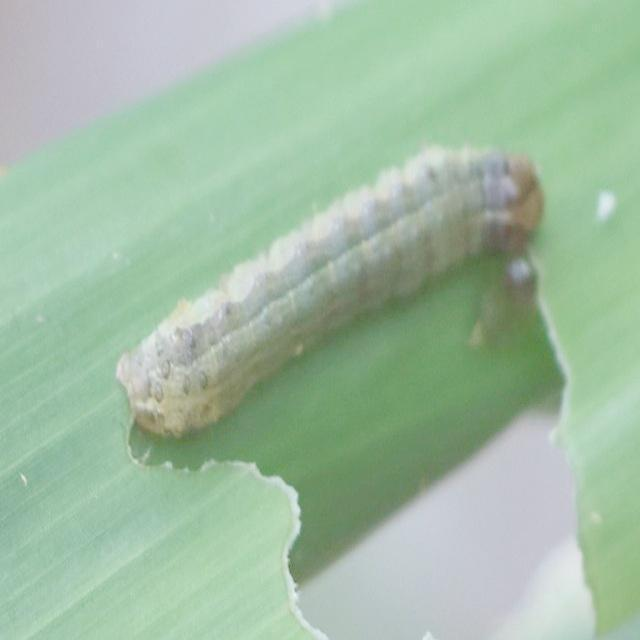gusano_cogollero: (118, 154, 540, 438)
